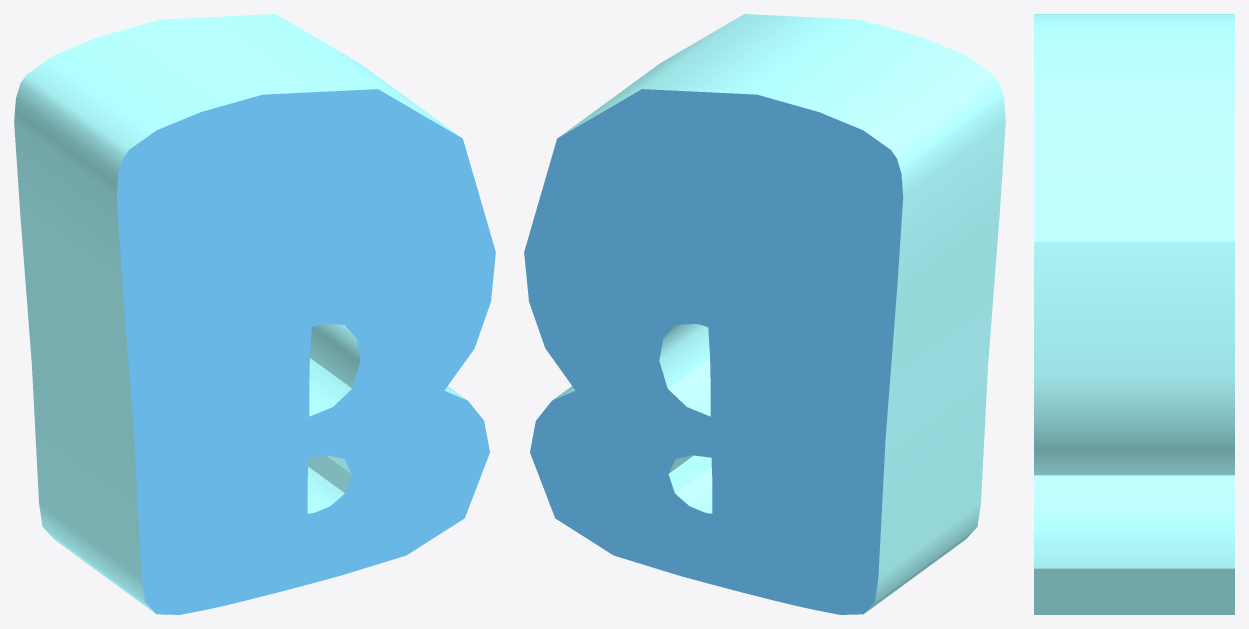
3 renders of one model, left to right at view 1: azimuth 30°, elevation 25°; view 2: azimuth 150°, elevation 25°; view 3: azimuth 270°, elevation 25°, orthographic. The views are drawn at different scales.
Parts seen in each view (by area): view 1: b; view 2: b; view 3: b.
Boxes of the visible parts, box(x1,y1,x2,y2) form: b: box(14, 14, 495, 614); b: box(524, 14, 1005, 614); b: box(1034, 14, 1234, 614).
Size of what is drawn, in the model's own units: 0.384 by 0.4857 by 0.18.
